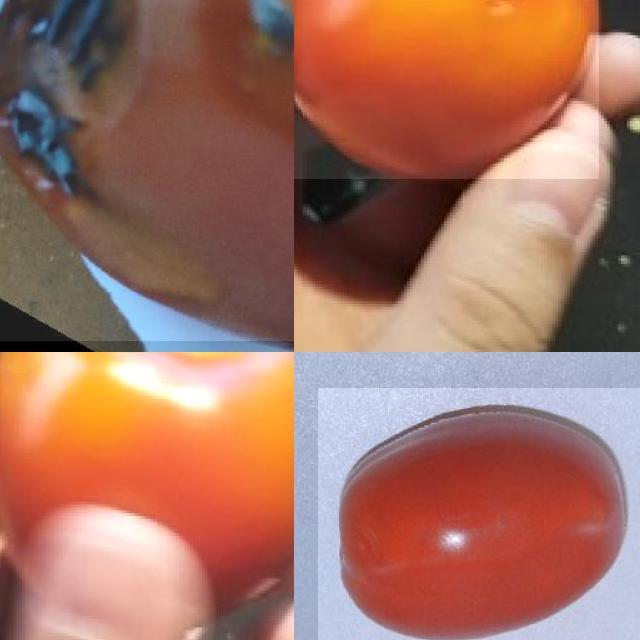Fresh Tomato: (0, 352, 294, 640), (318, 388, 640, 640), (294, 0, 599, 179)
Rotten Tomato: (0, 0, 294, 341)
